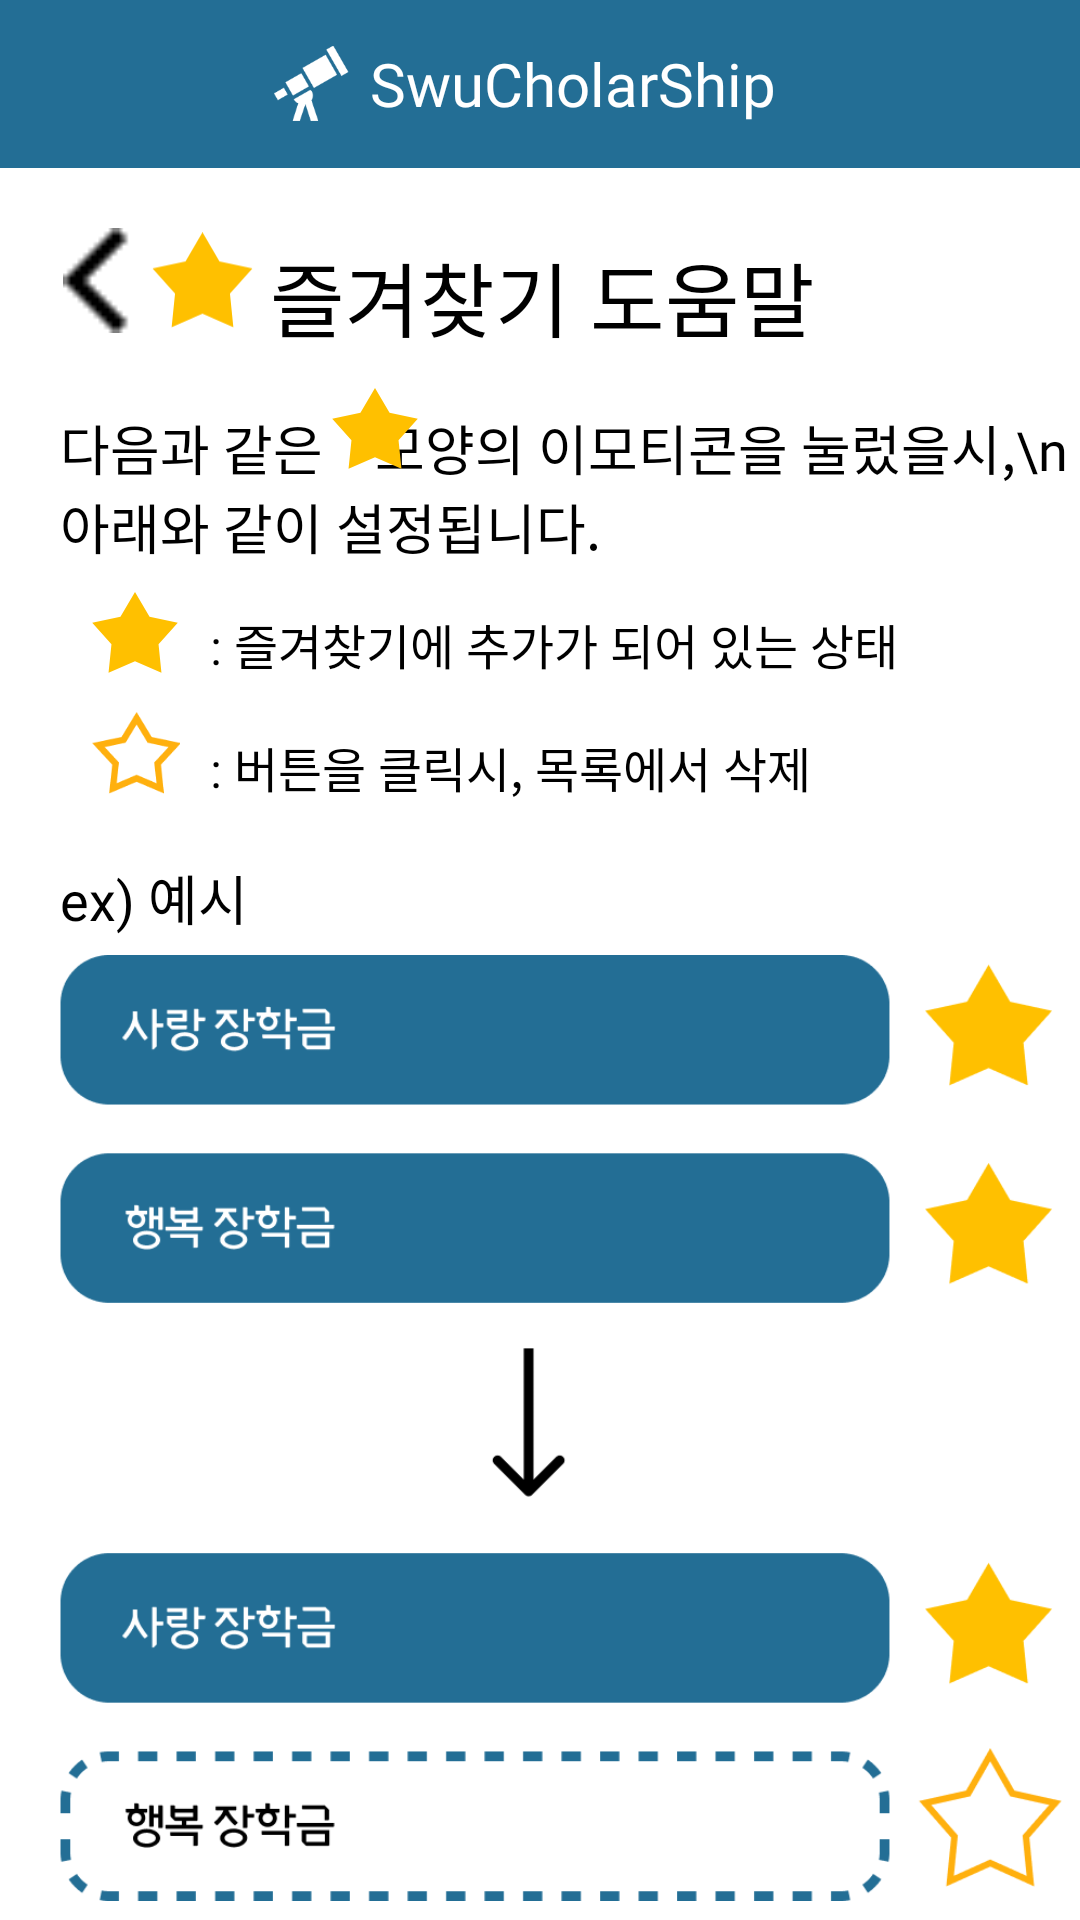

Screen size 1080px x 1920px. Icon name, then its box in pixels as (x1, y1, x2, y2):
back: (63, 228, 128, 333)
star: (153, 232, 252, 328), (332, 388, 420, 469), (92, 592, 178, 673)
